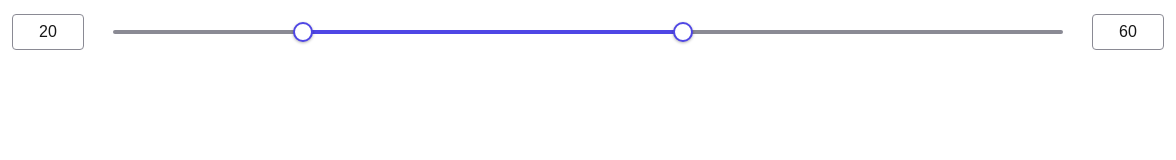
Test: Range inputs › reverts invalid text on blur without committing
Replace the text in the 2nd field named "Maximum value" with "abc": (1128, 32) [1092,14,1164,50]
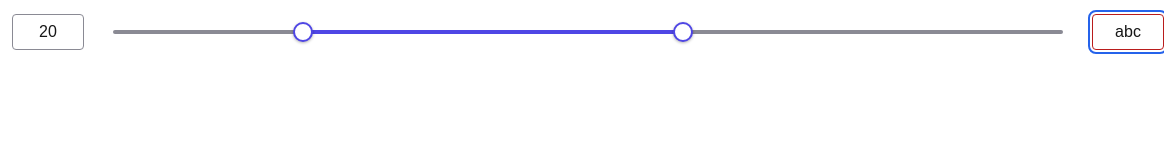
Check: the 2nd field named "Maximum value" is marked as invalid, box [1092,14,1164,50]
Press Tab
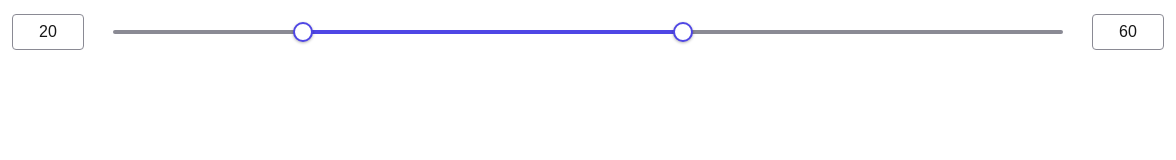
Check: the 2nd field named "Maximum value" holds "60", box [1092,14,1164,50]
